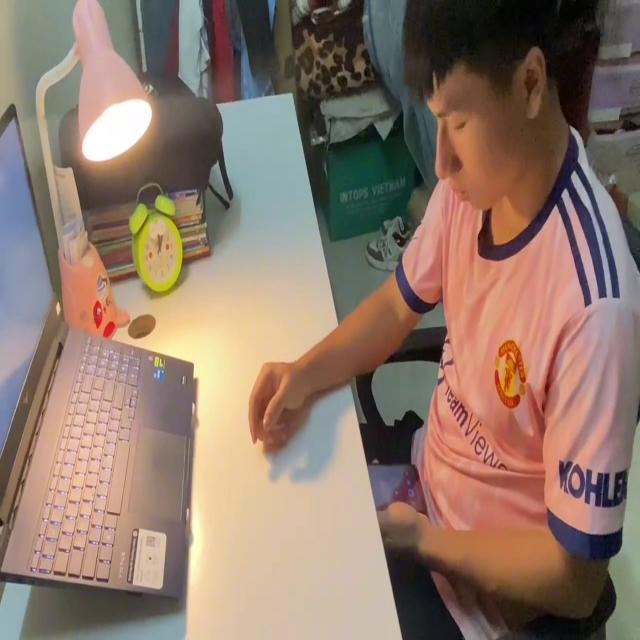laptop: (0, 100, 197, 601)
student: (246, 0, 640, 640)
